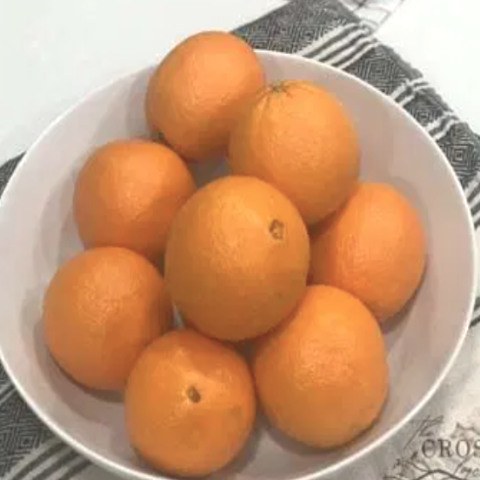orange: (160, 171, 316, 339), (282, 165, 452, 313), (245, 276, 389, 450), (116, 311, 256, 480), (21, 241, 176, 388), (140, 24, 274, 154)
